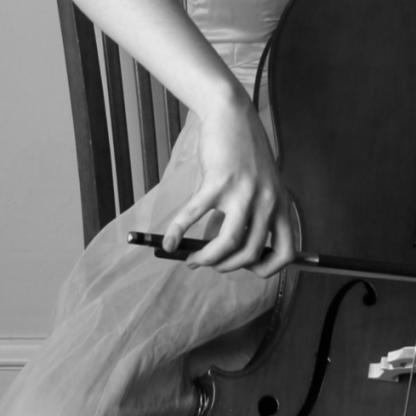bad: (154, 130, 304, 281)
